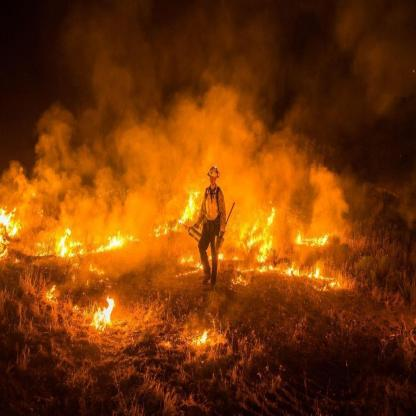fire: (3, 157, 348, 368)
smoke: (47, 14, 406, 178)
